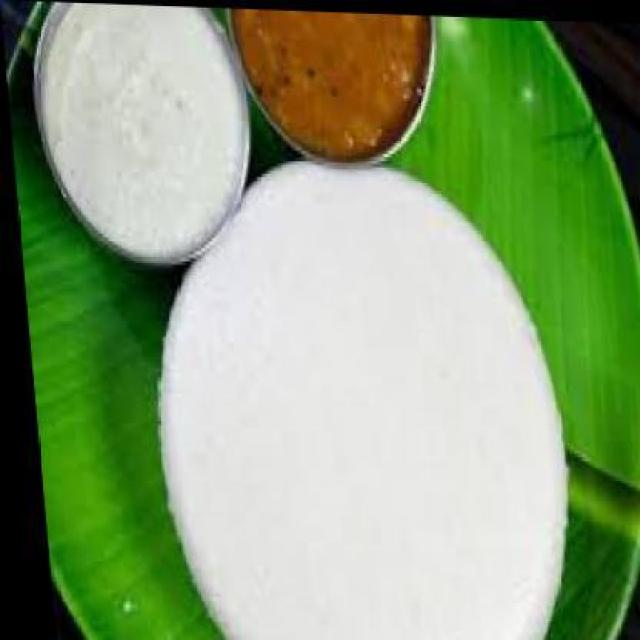idli: (131, 151, 572, 640)
